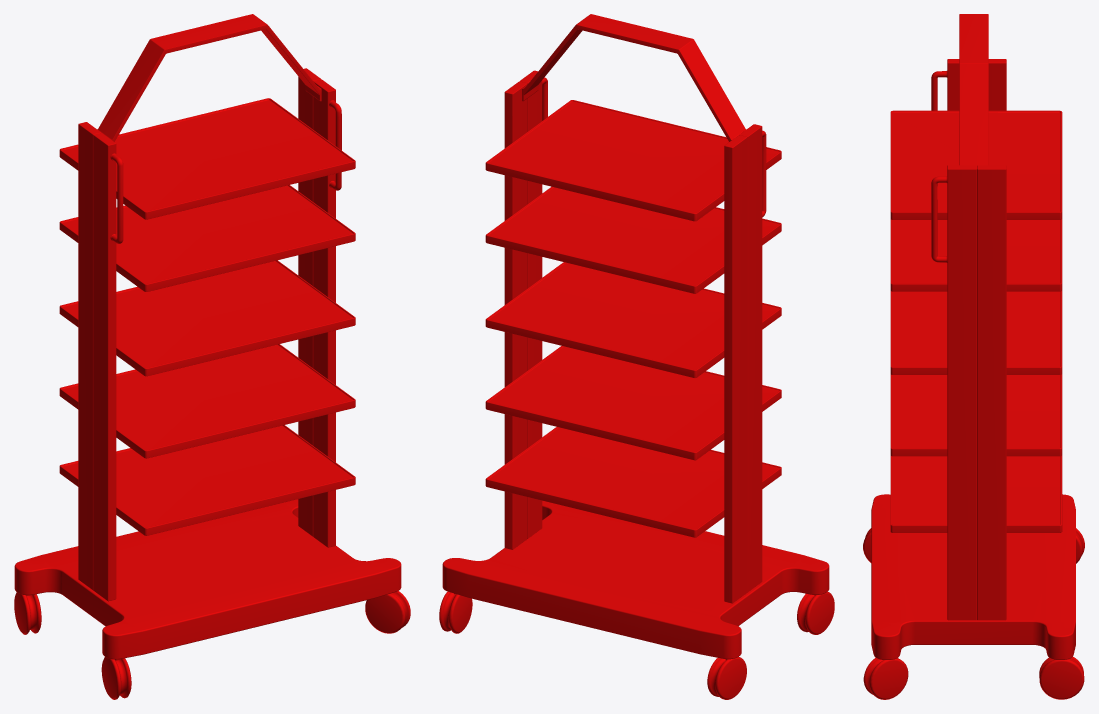
The model's file is Medical_shelf_1.fbx.
3 views of the same model, side by side, from view 1: azimuth 30°, elevation 25°; view 2: azimuth 150°, elevation 25°; view 3: azimuth 270°, elevation 25° (orthographic).
Parts seen in each view (by area): view 1: L7:pCube199; view 2: L7:pCube199; view 3: L7:pCube199.
Boxes of the visible parts, box(x1,y1,x2,y2) form: L7:pCube199: box(14, 14, 410, 699); L7:pCube199: box(439, 14, 834, 699); L7:pCube199: box(863, 14, 1084, 699).
Bounding box in the file's own units: 86.85 × 167 × 56.57.
